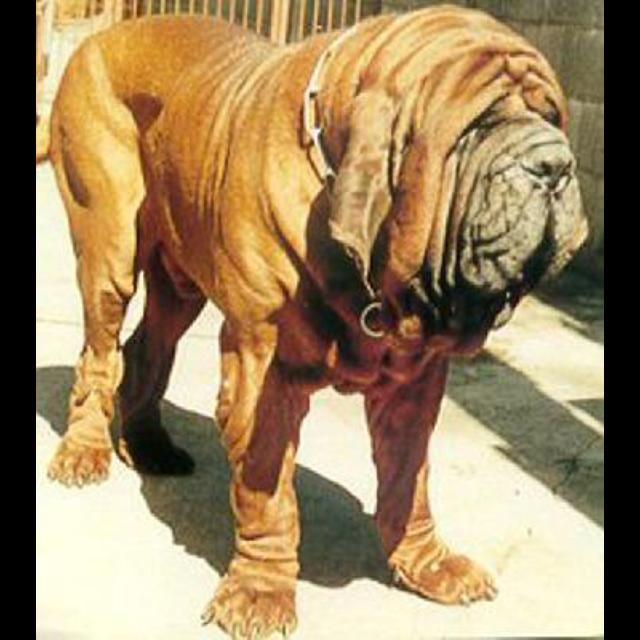bullmastiff: (38, 3, 591, 639)
